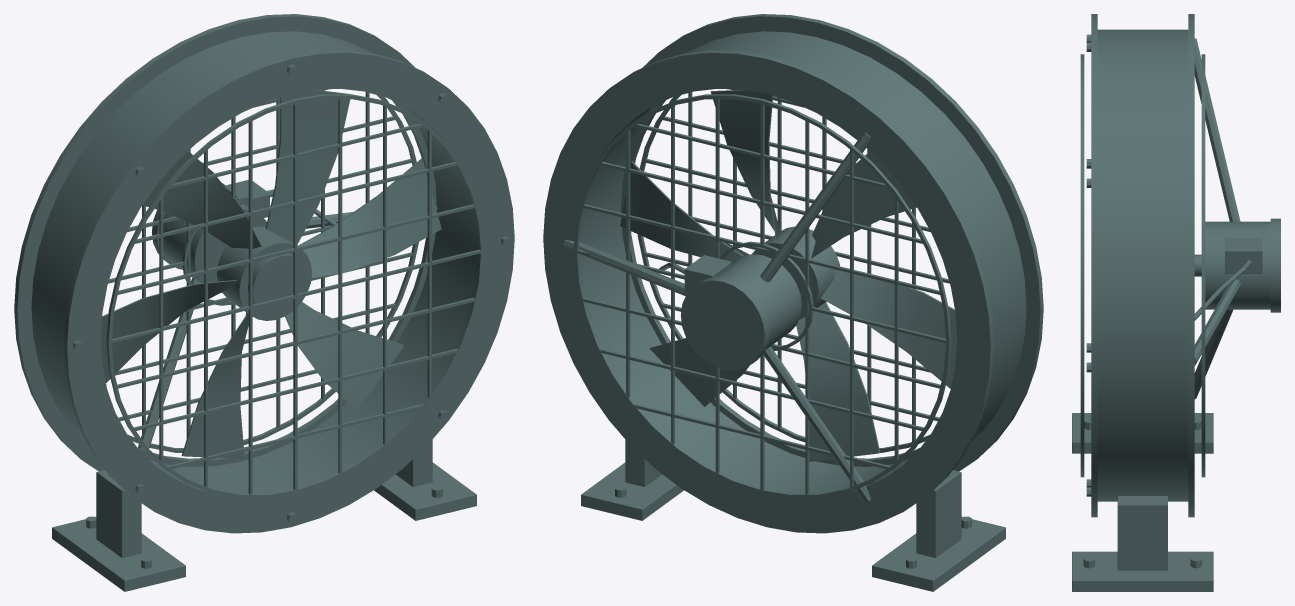
File: OBJ-079_VentiladorIndustrial.fbx
3 views of the same model, side by side, from view 1: azimuth 30°, elevation 25°; view 2: azimuth 150°, elevation 25°; view 3: azimuth 270°, elevation 25° (orthographic). The views are drawn at different scales.
Visible parts, largest first — view 1: GEO-079-Housing.002, GEO-079-Rotor.002; view 2: GEO-079-Housing.002, GEO-079-Rotor.002; view 3: GEO-079-Housing.002.
Part boxes in pixels (box(x1,y1,x2,y2)): GEO-079-Housing.002: box(14, 14, 514, 591); GEO-079-Rotor.002: box(100, 89, 441, 458); GEO-079-Housing.002: box(543, 14, 1043, 591); GEO-079-Rotor.002: box(620, 89, 957, 461); GEO-079-Housing.002: box(1072, 14, 1280, 591).
Size of the model in its own units: 1.6 by 1.65 by 0.663.
